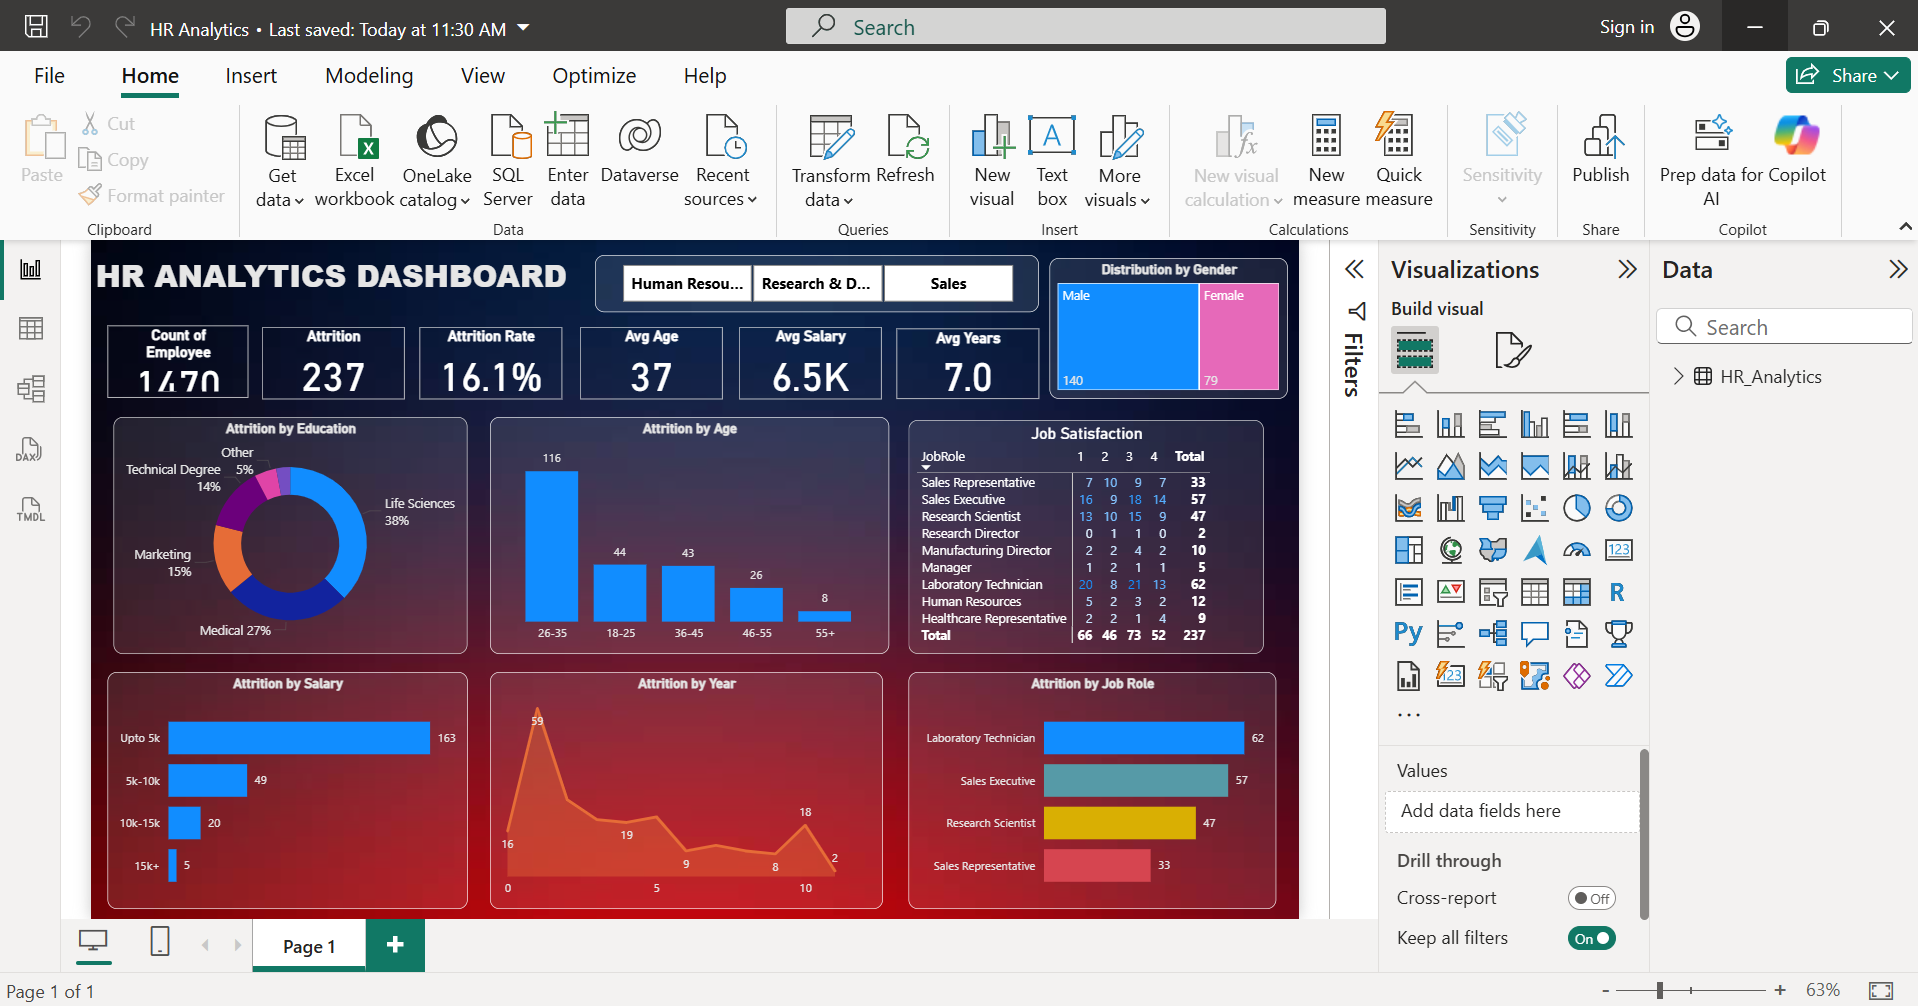

What the dashboard file says about the page in this screenshot:
{"tool":"powerbi","page":{"name":"Page 1","canvas":[1280,720],"ordinal":0},"visuals":[{"type":"card","title":"Count of Employee","fields":{"Values":["CountNonNull(HR_Analytics.EmpID)"]},"box":[17,90.1,149.5,76.3],"z":0},{"type":"card","title":"Attrition","fields":{"Values":["Sum(HR_Analytics.AttritionCount)"]},"box":[180.8,91.7,151.1,76.3],"z":1000},{"type":"card","title":"Attrition Rate","fields":{"Values":["HR_Analytics.Attritionrate"]},"box":[347.8,91.7,151.1,76.3],"z":2000},{"type":"card","title":"Avg Age","fields":{"Values":["Avg(HR_Analytics.Age)"]},"box":[518,91.7,151.1,76.3],"z":3000},{"type":"card","title":"Avg Years","fields":{"Values":["Avg(HR_Analytics.YearsAtCompany)"]},"box":[853.6,93.3,151.1,74.8],"z":4000},{"type":"card","title":"Avg Salary","fields":{"Values":["Avg(HR_Analytics.MonthlyIncome)"]},"box":[686.6,91.7,151.1,76.3],"z":5000},{"type":"donutChart","title":"Attrition by Education","fields":{"Category":["HR_Analytics.EducationField"],"Y":["Sum(HR_Analytics.AttritionCount)"]},"box":[23.9,187.7,375.4,251.3],"z":6000},{"type":"columnChart","title":"Attrition by Age","fields":{"Category":["HR_Analytics.AgeGroup"],"Y":["Sum(HR_Analytics.AttritionCount)"]},"box":[423.1,187.7,423.1,251.3],"z":7000},{"type":"pivotTable","title":"Job Satisfaction","fields":{"Rows":["HR_Analytics.JobRole"],"Columns":["HR_Analytics.JobSatisfaction"],"Values":["Sum(HR_Analytics.AttritionCount)"]},"box":[866.9,190.9,377,248.1],"z":8000},{"type":"barChart","title":"Attrition by Salary","fields":{"Category":["HR_Analytics.SalarySlab"],"Y":["Sum(HR_Analytics.AttritionCount)"]},"box":[17.5,458.1,381.7,251.3],"z":9000},{"type":"barChart","title":"Attrition by Job Role","fields":{"Y":["Sum(HR_Analytics.AttritionCount)"],"Category":["HR_Analytics.JobRole"]},"box":[866.9,458.1,389.7,251.3],"z":10000},{"type":"areaChart","title":"Attrition by Year","fields":{"Y":["Sum(HR_Analytics.AttritionCount)"],"Category":["HR_Analytics.YearsAtCompany"]},"box":[423.1,458.1,416.7,251.3],"z":11000},{"type":"treemap","title":"Distribution by Gender","fields":{"Group":["HR_Analytics.Gender"],"Values":["Sum(HR_Analytics.AttritionCount)"]},"box":[1016.4,19.1,252.9,149.5],"z":12000},{"type":"slicer","fields":{"Values":["HR_Analytics.Department"]},"box":[534.4,15.9,470.8,60.4],"z":13000},{"type":"textbox","box":[0,9.5,518.5,66.8],"z":14000}]}

Visuals, with their boxes on the page's 1280x720 design canvas (x1, y1, x2, y2). These are canvas units, not pixel positions in the 1918x1006 screenshot, which may show the page scaled, cropped or inside an application window:
"Count of Employee" card: <bbox>17, 90, 166, 166</bbox>
"Attrition" card: <bbox>181, 92, 332, 168</bbox>
"Attrition Rate" card: <bbox>348, 92, 499, 168</bbox>
"Avg Age" card: <bbox>518, 92, 669, 168</bbox>
"Avg Years" card: <bbox>854, 93, 1005, 168</bbox>
"Avg Salary" card: <bbox>687, 92, 838, 168</bbox>
"Attrition by Education" donutChart: <bbox>24, 188, 399, 439</bbox>
"Attrition by Age" columnChart: <bbox>423, 188, 846, 439</bbox>
"Job Satisfaction" pivotTable: <bbox>867, 191, 1244, 439</bbox>
"Attrition by Salary" barChart: <bbox>18, 458, 399, 709</bbox>
"Attrition by Job Role" barChart: <bbox>867, 458, 1257, 709</bbox>
"Attrition by Year" areaChart: <bbox>423, 458, 840, 709</bbox>
"Distribution by Gender" treemap: <bbox>1016, 19, 1269, 169</bbox>
slicer - HR_Analytics.Department: <bbox>534, 16, 1005, 76</bbox>
textbox: <bbox>0, 10, 518, 76</bbox>
